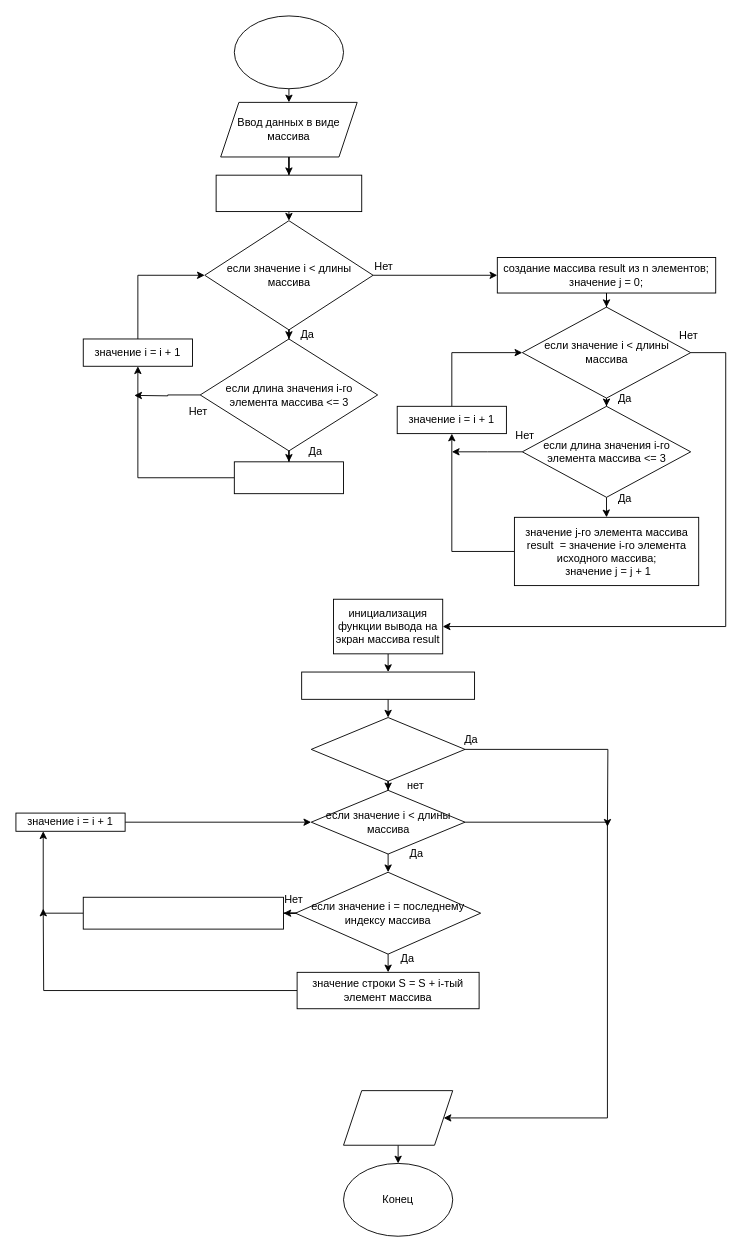
The diagram is 749 pixels wide and 1252 high, and some of its shapes have lost their labels. Here are the shapes that lost their labels. From the top down, the centre of each, then its label:
At (288,52): "Начало".
At (288,193): "значение i = 0 значение n = 0".
At (288,477): "значение n = n +1".
At (388,685): "формирование пустой строки S".
At (387,749): "если массив result пустой".
At (182,912): "значение строки S = S + i-тый элемент массива + разделитель".
At (398,1117): "Вывод на экран строки S".
